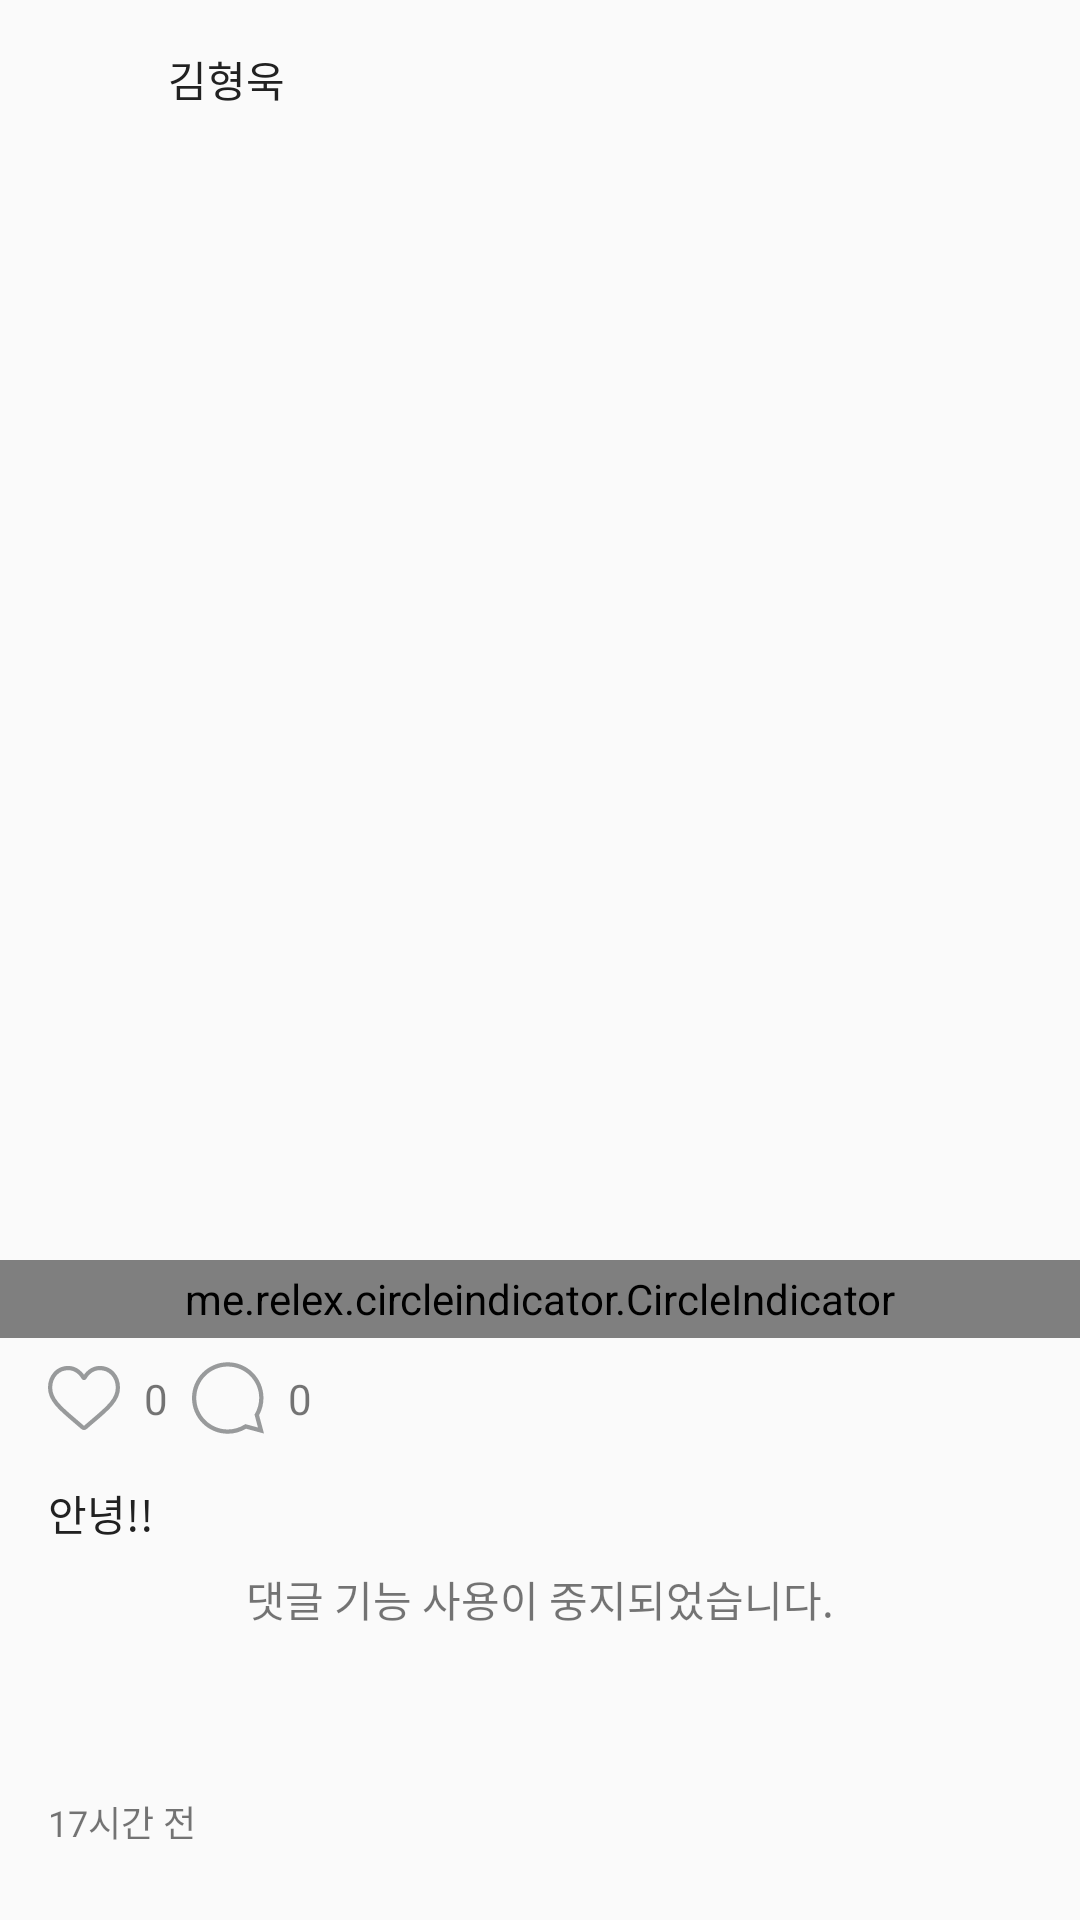

Named icons in this screenshot (1080x1920) and their centers, point (x, y):
before heart: point (84, 1398)
comment: point (228, 1398)
